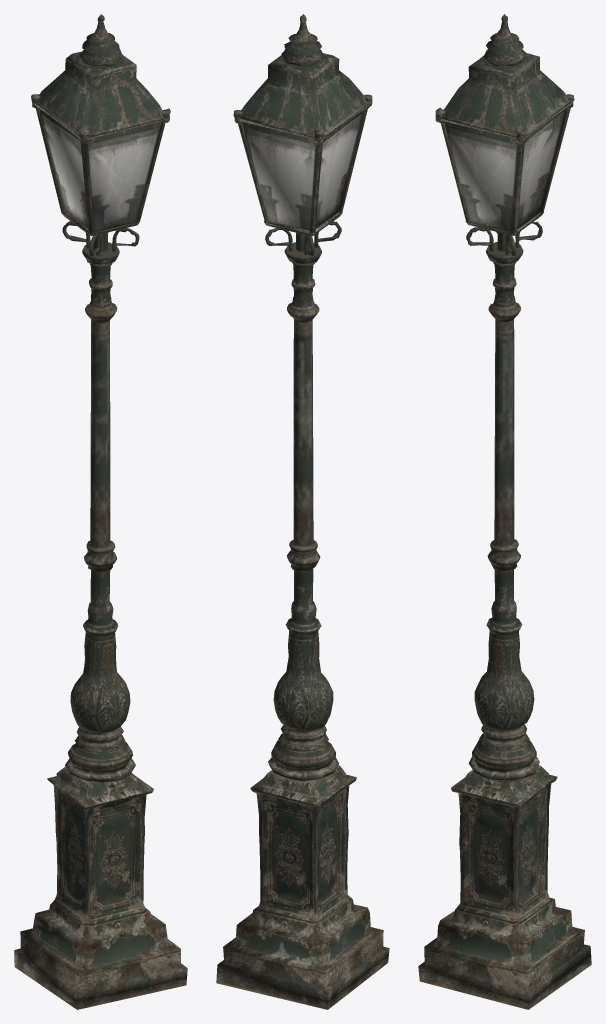
The model's file is lamp_post_harbour.glb.
3 views of the same model, side by side, from view 1: azimuth 30°, elevation 25°; view 2: azimuth 150°, elevation 25°; view 3: azimuth 330°, elevation 25° (orthographic).
Parts seen in each view (by area): view 1: Mesh_0; view 2: Mesh_0; view 3: Mesh_0.
Boxes of the visible parts, x1,y1,x2,y2 form: Mesh_0: (14,14,187,1009); Mesh_0: (216,14,389,1009); Mesh_0: (418,14,591,1009).
Bounding box in the file's own units: 0.4853 × 4 × 0.4697.
1 material, 1 textured.
